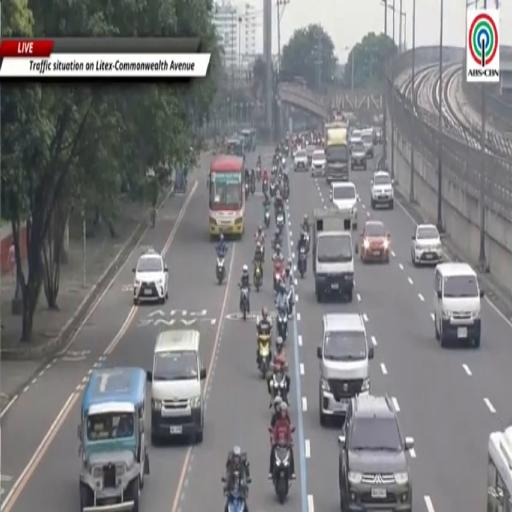bus: (209, 155, 245, 237), (487, 426, 511, 511)
car: (339, 395, 414, 511), (149, 330, 206, 443), (133, 249, 168, 305), (356, 220, 390, 263), (330, 182, 360, 230), (411, 224, 443, 265), (370, 171, 393, 209), (351, 141, 366, 170), (311, 150, 326, 177), (361, 130, 374, 157), (294, 149, 307, 171), (306, 144, 315, 165), (350, 130, 362, 143), (375, 127, 383, 145)
jeepney: (78, 367, 149, 511), (226, 138, 244, 157), (242, 130, 255, 151)
motorcycle: (273, 445, 291, 504), (227, 471, 246, 511), (269, 368, 287, 408), (258, 334, 271, 378), (277, 309, 288, 341), (274, 262, 284, 293), (240, 287, 249, 321), (216, 256, 225, 284), (298, 247, 306, 278), (254, 262, 262, 292), (287, 285, 294, 314), (276, 210, 284, 232), (273, 233, 282, 250), (264, 206, 270, 228), (303, 232, 309, 253), (283, 182, 290, 200), (262, 180, 268, 195), (270, 183, 276, 197), (256, 167, 261, 182), (245, 182, 249, 200), (250, 181, 255, 195), (272, 164, 277, 175), (282, 156, 286, 167)
truck: (312, 208, 353, 302), (324, 121, 349, 183)
